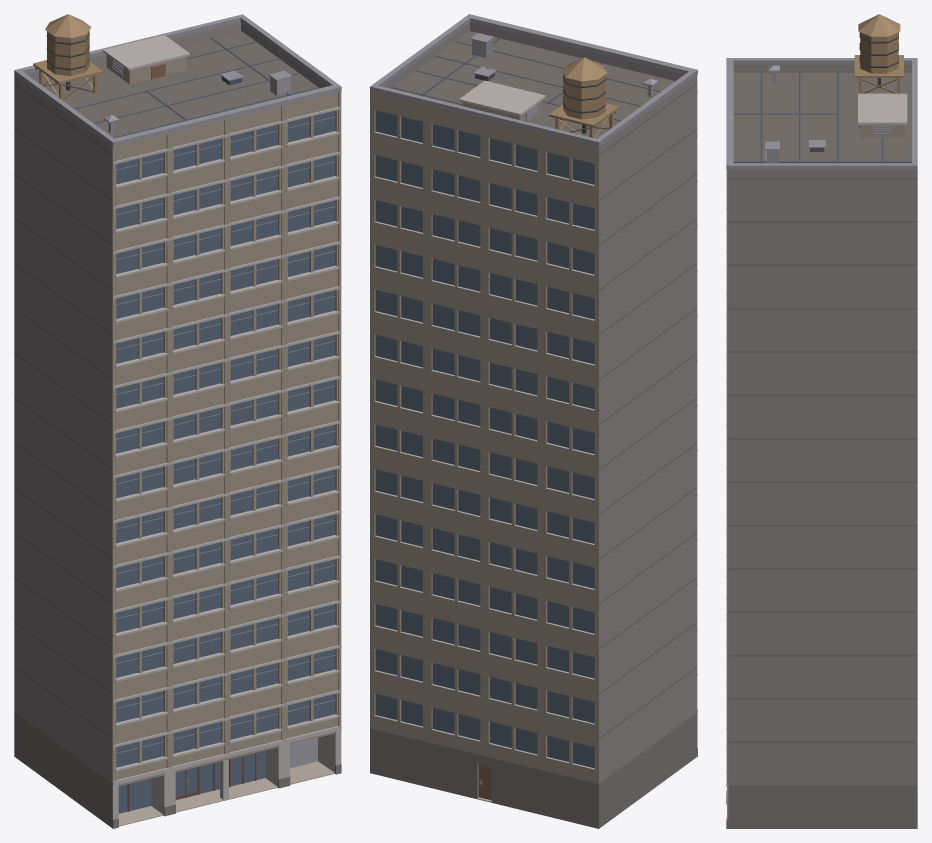
The model's file is city_slab.glb.
The picture shows the model from 3 angles, left to right: view 1: azimuth 30°, elevation 25°; view 2: azimuth 150°, elevation 25°; view 3: azimuth 270°, elevation 25°; orthographic projection. The views are drawn at different scales.
Visible parts, largest first — view 1: city_slab; view 2: city_slab; view 3: city_slab.
Part boxes in pixels (box(x1,y1,x2,y2)): city_slab: box(14, 14, 341, 828); city_slab: box(370, 14, 697, 828); city_slab: box(726, 14, 917, 828).
Size of the model in its own units: 16.62 by 52 by 12.47.
